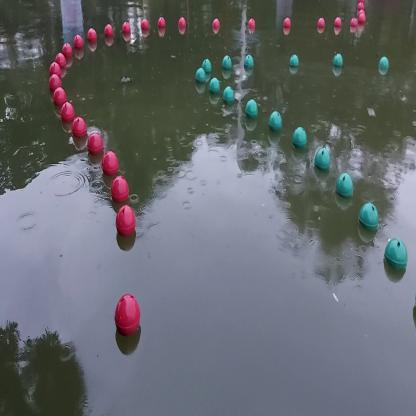green_buoy: (384, 236, 407, 270), (358, 200, 378, 231), (335, 172, 354, 201), (314, 146, 332, 176), (292, 125, 308, 150), (244, 95, 259, 121), (268, 108, 282, 135), (222, 85, 234, 105), (378, 55, 389, 76), (209, 75, 220, 96), (243, 53, 255, 70), (221, 54, 233, 70), (195, 68, 206, 84), (202, 57, 212, 74), (333, 53, 343, 69), (290, 53, 300, 68)
red_buoy: (114, 292, 141, 336), (109, 169, 132, 208), (116, 205, 137, 239), (101, 148, 120, 178), (87, 131, 104, 157), (47, 58, 62, 82), (71, 118, 88, 139), (53, 86, 67, 108), (61, 100, 75, 122), (48, 73, 62, 92), (86, 25, 98, 44), (54, 51, 66, 69), (73, 33, 84, 52), (62, 42, 73, 59), (121, 20, 132, 35), (104, 23, 114, 39), (356, 0, 365, 16), (211, 16, 221, 30), (157, 16, 166, 30), (358, 12, 366, 27), (316, 16, 326, 28), (140, 19, 150, 31), (283, 16, 291, 30), (350, 16, 358, 29), (178, 17, 187, 28), (247, 19, 256, 29), (334, 17, 341, 29)
